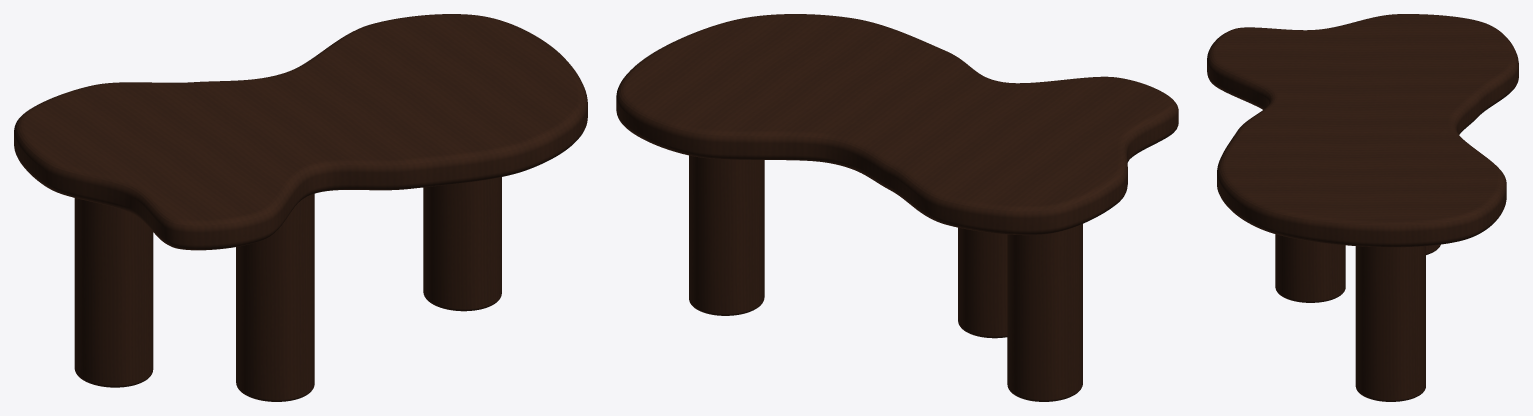
The model's file is mordchil-cloud-coffee-table.glb.
The picture shows the model from 3 angles, left to right: view 1: azimuth 30°, elevation 25°; view 2: azimuth 150°, elevation 25°; view 3: azimuth 270°, elevation 25°; orthographic projection. The views are drawn at different scales.
Parts seen in each view (by area): view 1: Cloud | organic bullnose walnut top, Cloud | left rear solid cylinder leg, Cloud | front solid cylinder leg, Cloud | right solid cylinder leg; view 2: Cloud | organic bullnose walnut top, Cloud | left rear solid cylinder leg, Cloud | right solid cylinder leg, Cloud | front solid cylinder leg; view 3: Cloud | organic bullnose walnut top, Cloud | right solid cylinder leg, Cloud | front solid cylinder leg.
Part boxes in pixels (x1=…): Cloud | organic bullnose walnut top: x1=14, y1=14, x2=587, y2=250; Cloud | left rear solid cylinder leg: x1=74, y1=198, x2=153, y2=387; Cloud | front solid cylinder leg: x1=236, y1=193, x2=314, y2=401; Cloud | right solid cylinder leg: x1=423, y1=177, x2=501, y2=311; Cloud | organic bullnose walnut top: x1=616, y1=14, x2=1178, y2=235; Cloud | left rear solid cylinder leg: x1=1007, y1=224, x2=1082, y2=401; Cloud | right solid cylinder leg: x1=689, y1=155, x2=764, y2=315; Cloud | front solid cylinder leg: x1=958, y1=227, x2=1007, y2=338; Cloud | organic bullnose walnut top: x1=1207, y1=14, x2=1518, y2=247; Cloud | right solid cylinder leg: x1=1355, y1=246, x2=1425, y2=401; Cloud | front solid cylinder leg: x1=1275, y1=234, x2=1345, y2=302.
Size of the model in its own units: 0.8636 by 0.381 by 0.5334.
Materials: 1 (1 with a texture image).
